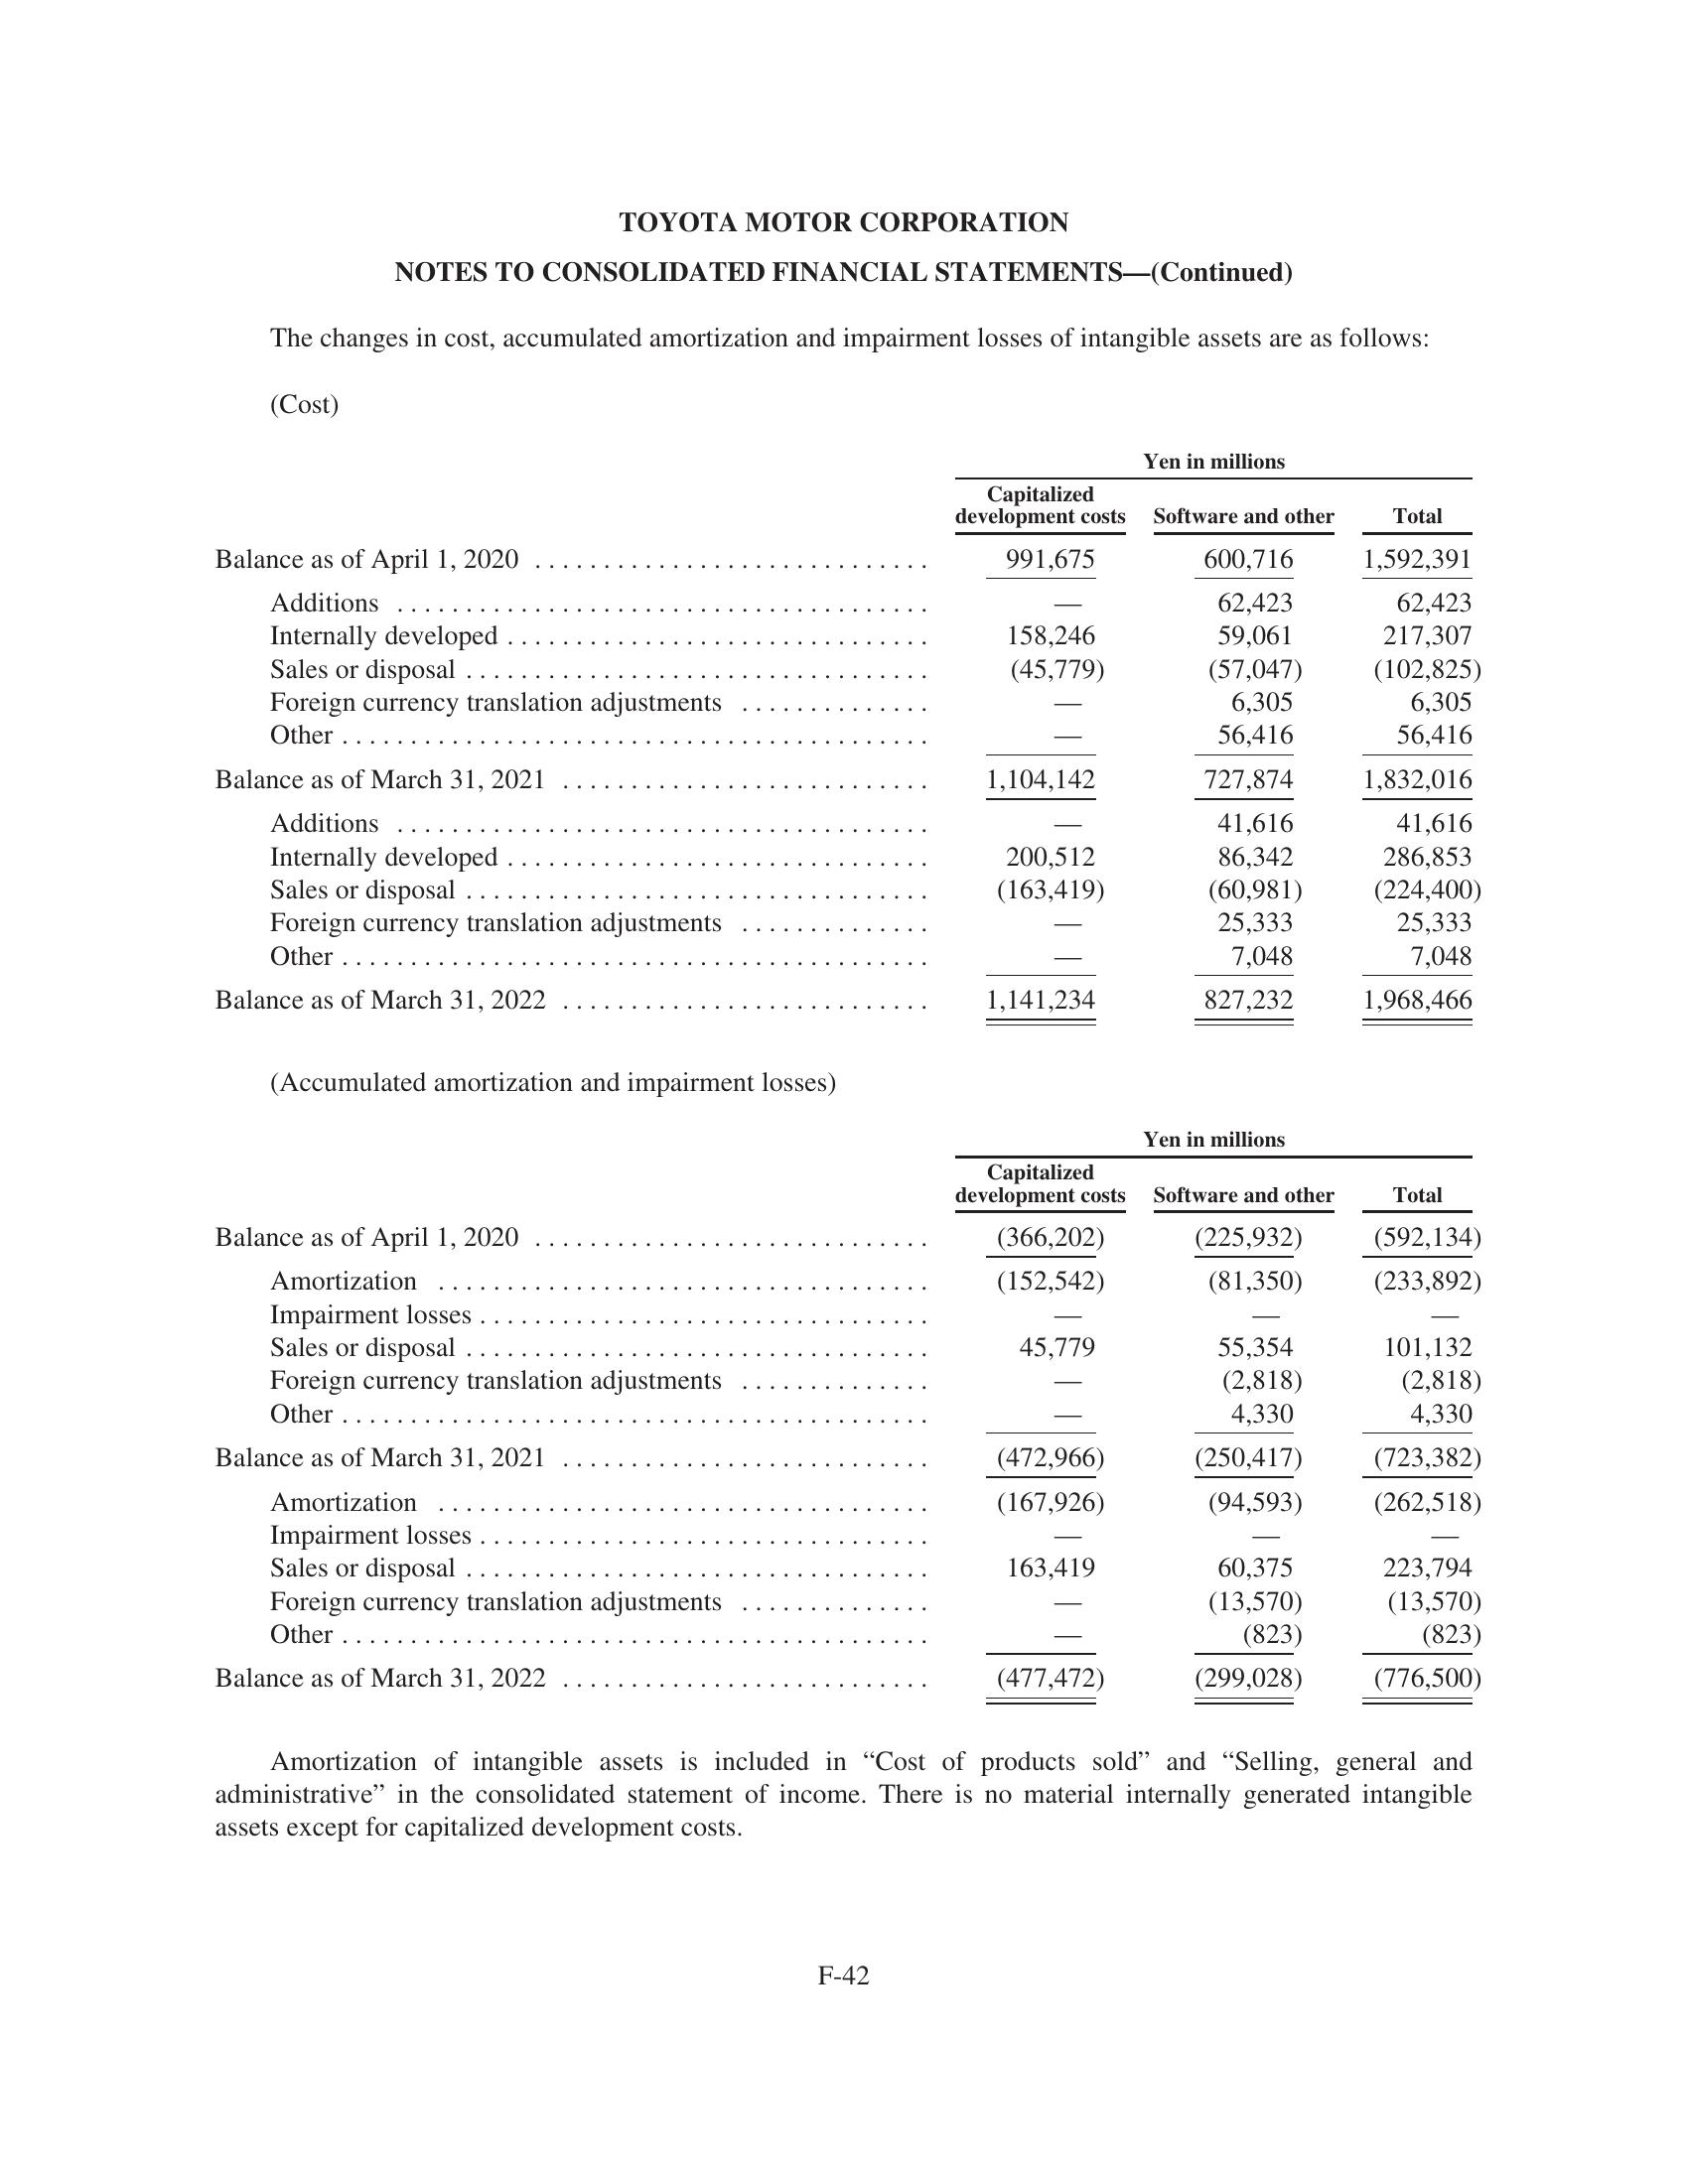Footer: (0, 1946, 1688, 2184)
Header: (0, 0, 1688, 179)
Table: (154, 1120, 1518, 1716), (170, 443, 1518, 1044)
